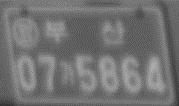0: (16, 54, 39, 93)
4: (145, 55, 166, 95)
5: (75, 53, 98, 94)
6: (121, 55, 143, 93)
7: (38, 55, 59, 92)
8: (98, 54, 120, 93)
가: (58, 60, 77, 87)
부산_D: (44, 17, 126, 46)
영: (11, 16, 40, 49)
